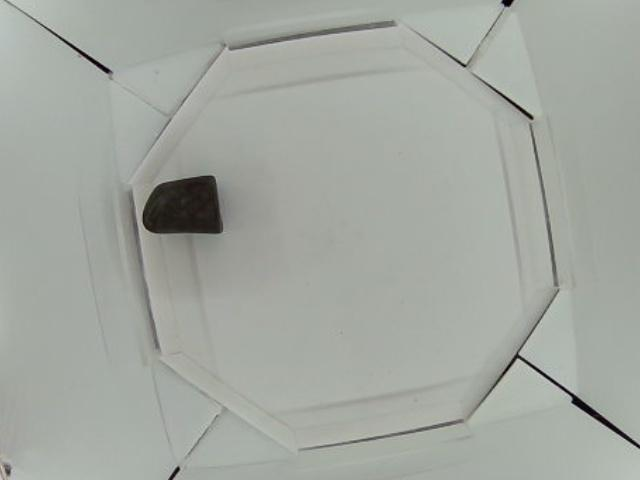Pebble: (144, 173, 224, 236)
